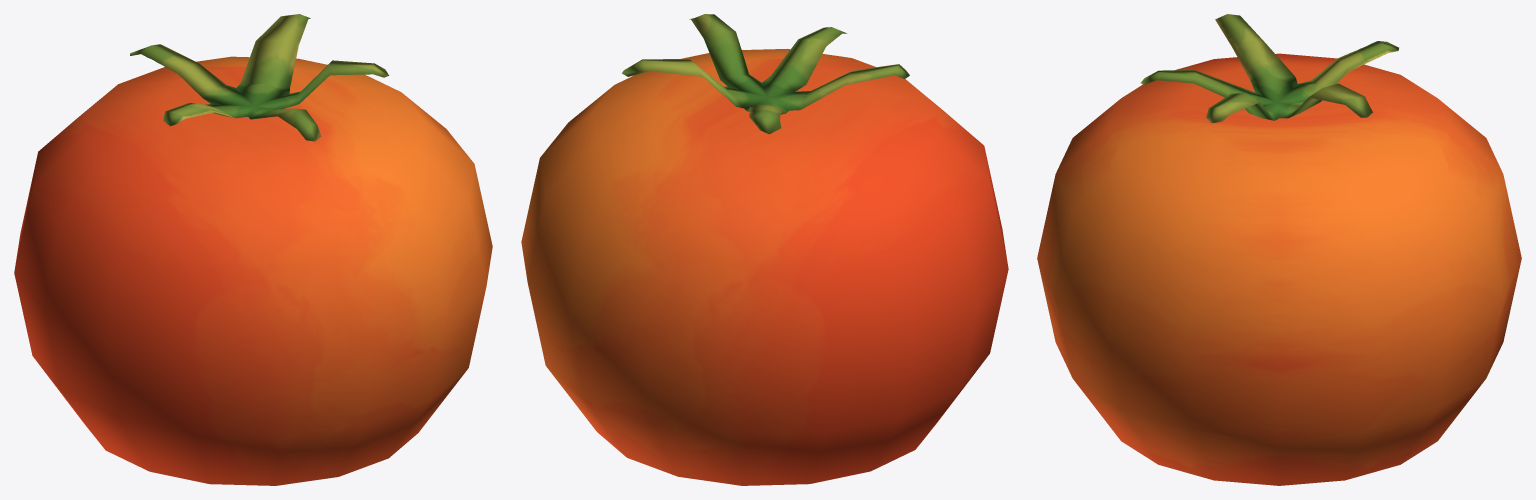
Rendered from Tomat_Full.fbx.
3 views of the same model, side by side, from view 1: azimuth 30°, elevation 25°; view 2: azimuth 150°, elevation 25°; view 3: azimuth 270°, elevation 25° (orthographic).
Visible parts, largest first — view 1: Plane.003; view 2: Plane.003; view 3: Plane.003.
Part boxes in pixels (x1=…): Plane.003: x1=14, y1=14, x2=492, y2=485; Plane.003: x1=521, y1=14, x2=1008, y2=485; Plane.003: x1=1037, y1=14, x2=1521, y2=485.
Size of the model in its own units: 16.46 by 16.46 by 14.31.
Materials: 1 (1 with a texture image).
